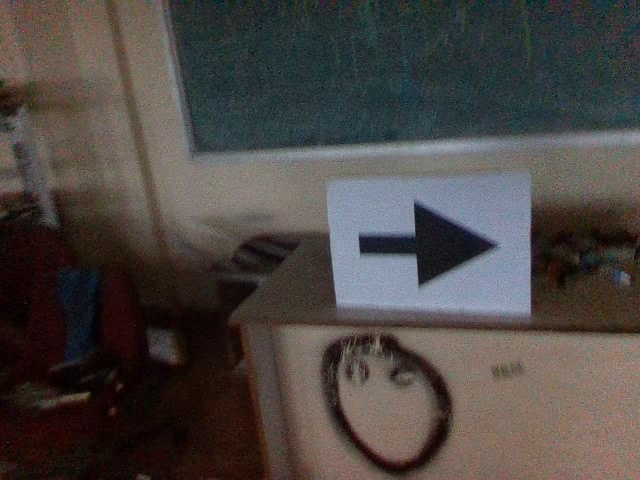Right: (345, 196, 508, 295)
